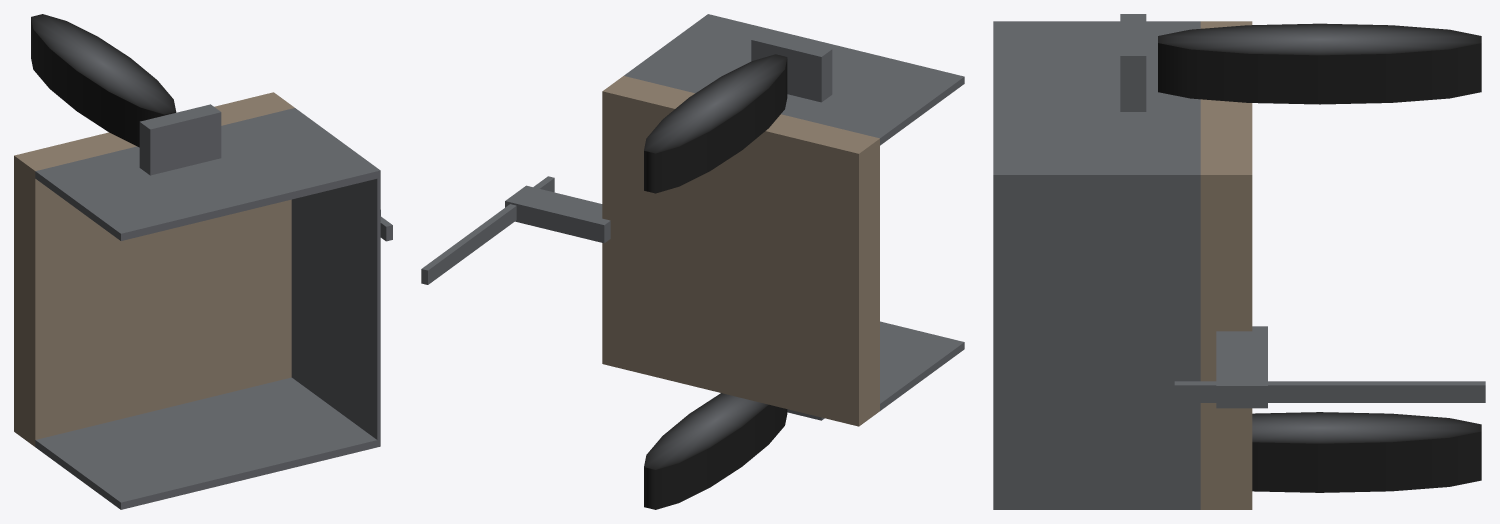
File: trailer.glb
The picture shows the model from 3 angles, left to right: view 1: azimuth 30°, elevation 25°; view 2: azimuth 150°, elevation 25°; view 3: azimuth 270°, elevation 25°; orthographic projection. The views are drawn at different scales.
Visible parts, largest first — view 1: vehicle/trailer; view 2: vehicle/trailer; view 3: vehicle/trailer.
Boxes of the visible parts, bbox=[...] form: vehicle/trailer: bbox=[14, 14, 392, 509]; vehicle/trailer: bbox=[421, 14, 964, 509]; vehicle/trailer: bbox=[993, 14, 1485, 509].
Bounding box in the file's own units: 1 × 1 × 1.
